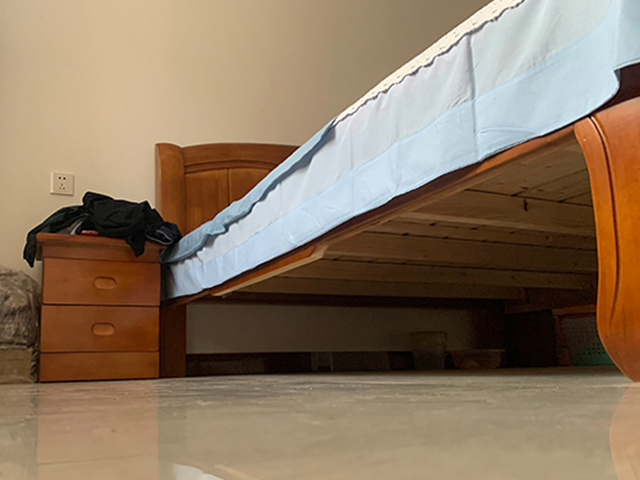bed: (153, 1, 640, 383)
cabinet: (40, 233, 163, 382)
trashcan: (561, 312, 610, 367)
